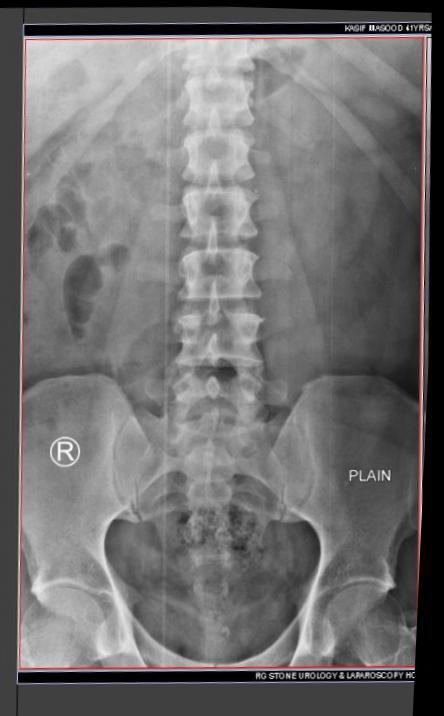vertebrae: (150, 106, 245, 183)
